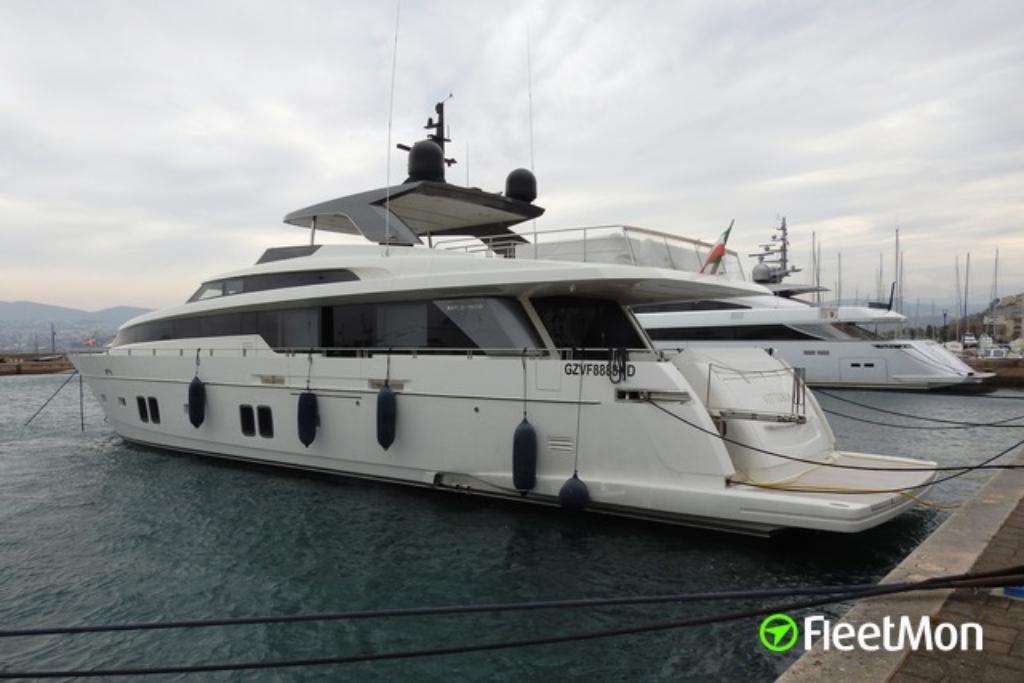PassengerShip: (66, 100, 940, 541), (706, 240, 998, 398)
